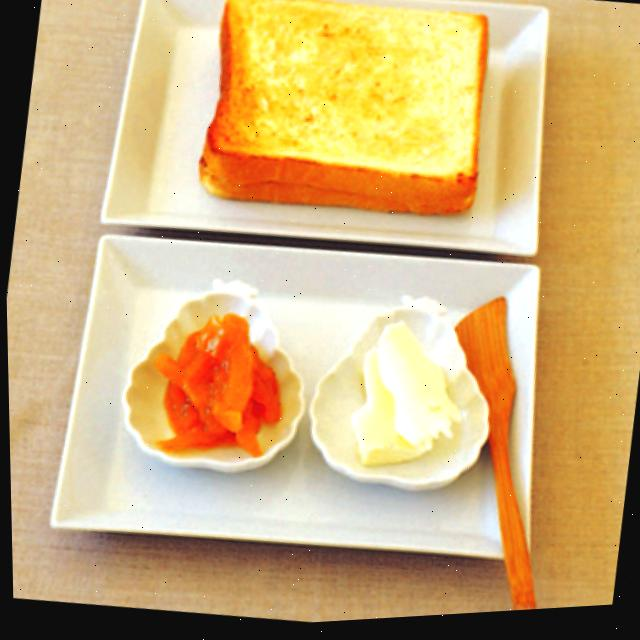面包点心: (193, 0, 511, 236)
